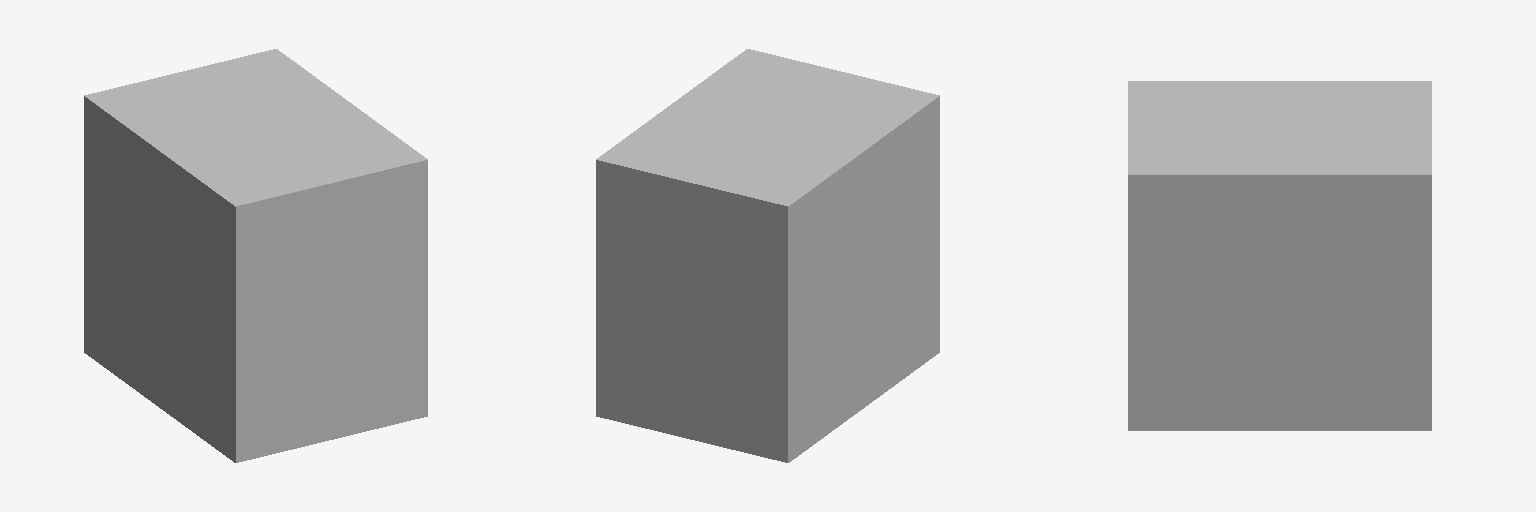
The model's file is lim_mask.obj.
The picture shows the model from 3 angles: view 1: azimuth 30°, elevation 25°; view 2: azimuth 150°, elevation 25°; view 3: azimuth 270°, elevation 25°; orthographic projection.
Size of the model in its own units: 1.1 by 1.4 by 1.5.